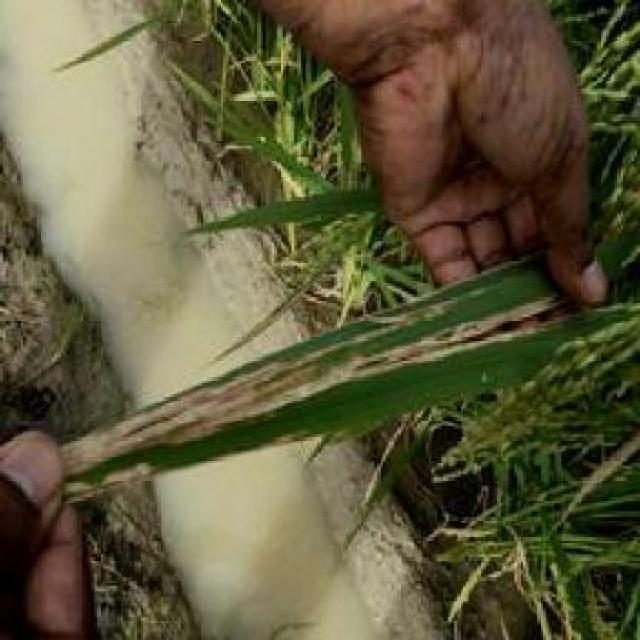Brown_Spot: (128, 294, 563, 423)
